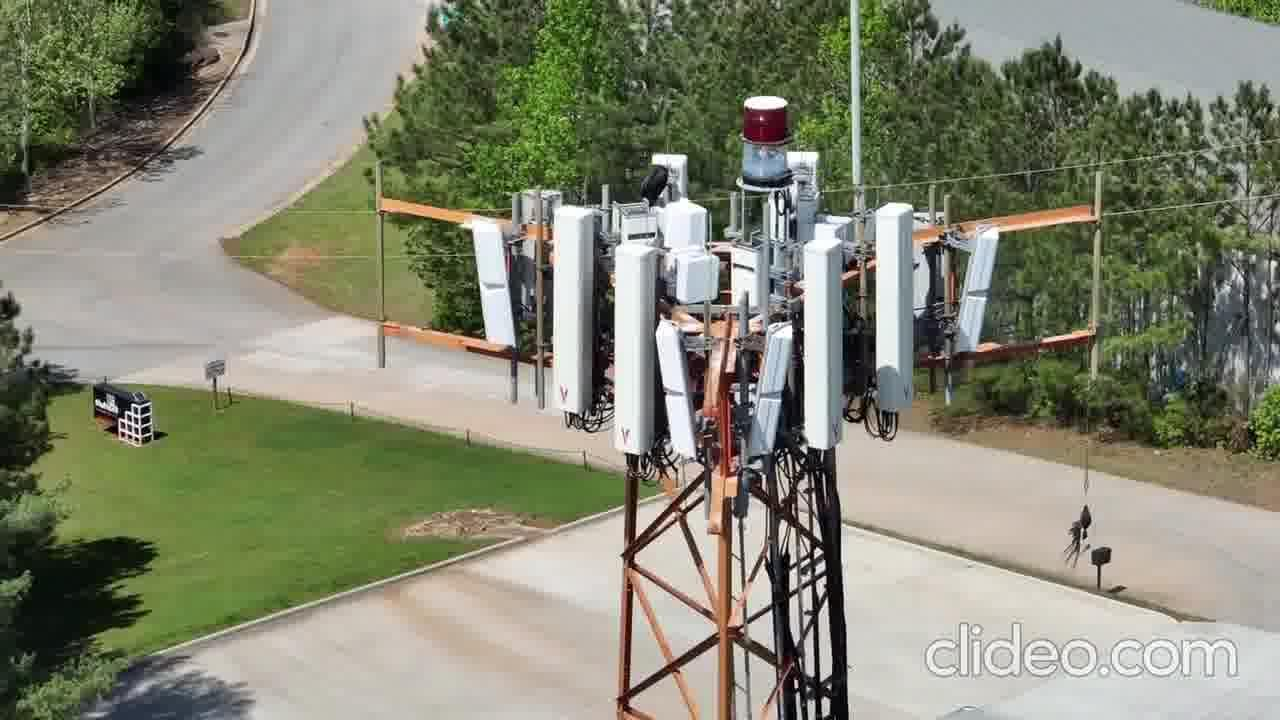antenna: (872, 198, 932, 424), (604, 237, 661, 461), (543, 206, 599, 422), (794, 237, 850, 453), (473, 214, 520, 357), (653, 318, 697, 460)
